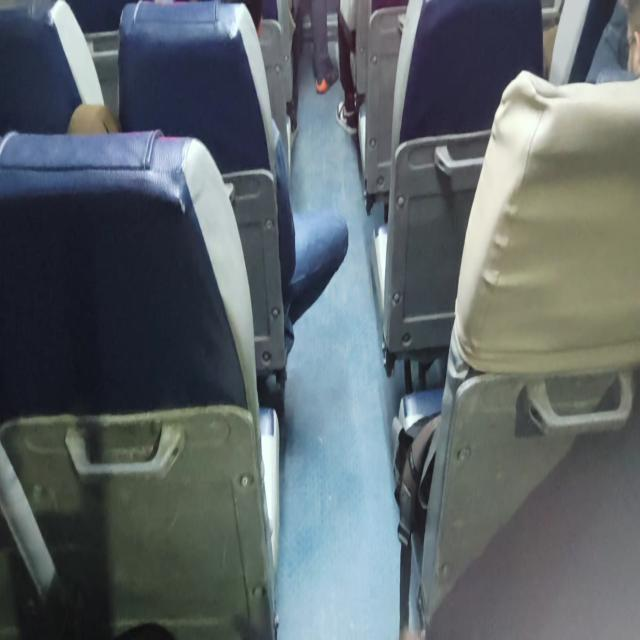person: (610, 0, 640, 111)
